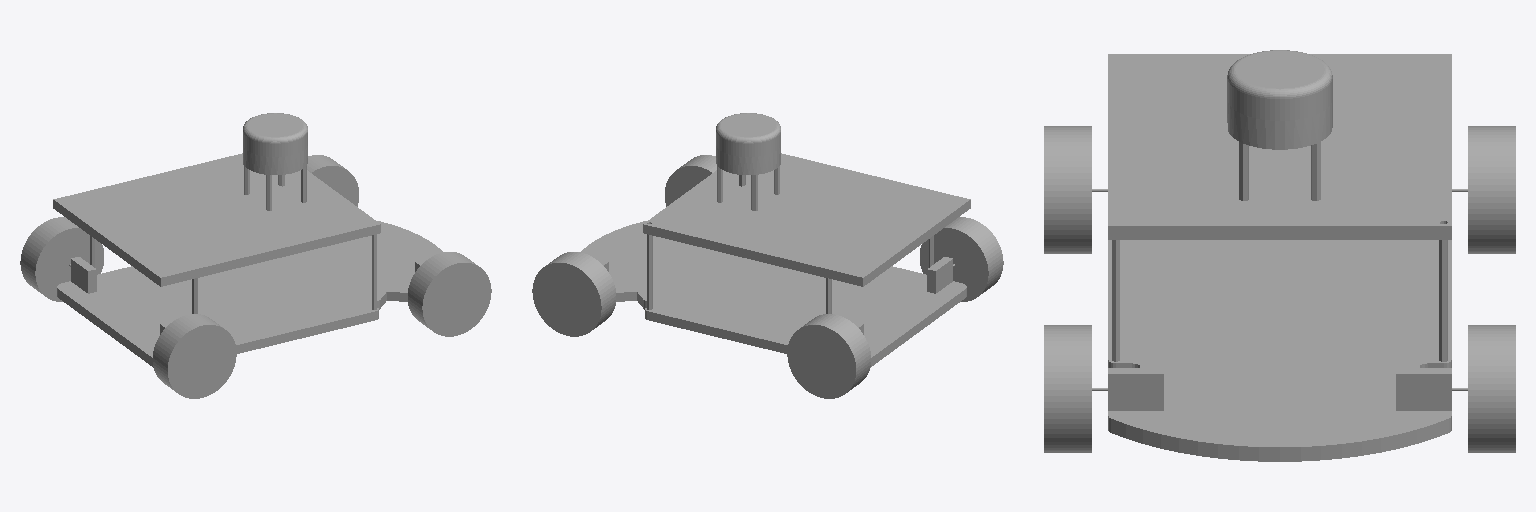
robot.urdf — 4weel_version2:
<?xml version="1.0" ?>
<!-- =================================================================================== -->
<!-- |    This document was autogenerated by xacro from urdf/4weel_version2.xacro      | -->
<!-- |    EDITING THIS FILE BY HAND IS NOT RECOMMENDED                                 | -->
<!-- =================================================================================== -->
<robot xmlns:xacro="http://www.ros.org/wiki/xacro" name="4weel_version2">
  <material name="silver">
    <color rgba="0.700 0.700 0.700 1.000"/>
  </material>
  <transmission name="Revolute 1_tran">
    <type>transmission_interface/SimpleTransmission</type>
    <joint name="Revolute 1">
      <hardwareInterface>hardware_interface/EffortJointInterface</hardwareInterface>
    </joint>
    <actuator name="Revolute 1_actr">
      <hardwareInterface>hardware_interface/EffortJointInterface</hardwareInterface>
      <mechanicalReduction>1</mechanicalReduction>
    </actuator>
  </transmission>
  <transmission name="Revolute 2_tran">
    <type>transmission_interface/SimpleTransmission</type>
    <joint name="Revolute 2">
      <hardwareInterface>hardware_interface/EffortJointInterface</hardwareInterface>
    </joint>
    <actuator name="Revolute 2_actr">
      <hardwareInterface>hardware_interface/EffortJointInterface</hardwareInterface>
      <mechanicalReduction>1</mechanicalReduction>
    </actuator>
  </transmission>
  <transmission name="Revolute 6_tran">
    <type>transmission_interface/SimpleTransmission</type>
    <joint name="Revolute 6">
      <hardwareInterface>hardware_interface/EffortJointInterface</hardwareInterface>
    </joint>
    <actuator name="Revolute 6_actr">
      <hardwareInterface>hardware_interface/EffortJointInterface</hardwareInterface>
      <mechanicalReduction>1</mechanicalReduction>
    </actuator>
  </transmission>
  <transmission name="Revolute 7_tran">
    <type>transmission_interface/SimpleTransmission</type>
    <joint name="Revolute 7">
      <hardwareInterface>hardware_interface/EffortJointInterface</hardwareInterface>
    </joint>
    <actuator name="Revolute 7_actr">
      <hardwareInterface>hardware_interface/EffortJointInterface</hardwareInterface>
      <mechanicalReduction>1</mechanicalReduction>
    </actuator>
  </transmission>
  <gazebo>
    <plugin name="control" filename="libgazebo_ros_control.so"/>
  </gazebo>
  <gazebo reference="base_link">
    <material>Gazebo/Silver</material>
    <mu1>0.2</mu1>
    <mu2>0.2</mu2>
    <selfCollide>true</selfCollide>
    <gravity>true</gravity>
  </gazebo>
  <gazebo reference="back_left_1">
    <material>Gazebo/Silver</material>
    <mu1>0.2</mu1>
    <mu2>0.2</mu2>
    <selfCollide>true</selfCollide>
  </gazebo>
  <gazebo reference="back_right_1">
    <material>Gazebo/Silver</material>
    <mu1>0.2</mu1>
    <mu2>0.2</mu2>
    <selfCollide>true</selfCollide>
  </gazebo>
  <gazebo reference="lidar_v1_1">
    <material>Gazebo/Silver</material>
    <mu1>0.2</mu1>
    <mu2>0.2</mu2>
    <selfCollide>true</selfCollide>
  </gazebo>
  <gazebo reference="front_left_1">
    <material>Gazebo/Silver</material>
    <mu1>0.2</mu1>
    <mu2>0.2</mu2>
    <selfCollide>true</selfCollide>
  </gazebo>
  <gazebo reference="front_right_1">
    <material>Gazebo/Silver</material>
    <mu1>0.2</mu1>
    <mu2>0.2</mu2>
    <selfCollide>true</selfCollide>
  </gazebo>
  <link name="base_link">
    <inertial>
      <origin xyz="-0.0026827952129199395 -9.24237718342667e-06 0.050011490590469505" rpy="0 0 0"/>
      <mass value="11.135828149573104"/>
      <inertia ixx="0.069638" iyy="0.133325" izz="0.14446" ixy="1.3e-05" iyz="4e-06" ixz="0.010205"/>
    </inertial>
    <visual>
      <origin xyz="0 0 0" rpy="0 0 0"/>
      <geometry>
        <mesh filename="package://4weel_version2_description/meshes/base_link.stl" scale="0.001 0.001 0.001"/>
      </geometry>
      <material name="silver"/>
    </visual>
    <collision>
      <origin xyz="0 0 0" rpy="0 0 0"/>
      <geometry>
        <mesh filename="package://4weel_version2_description/meshes/base_link.stl" scale="0.001 0.001 0.001"/>
      </geometry>
    </collision>
  </link>
  <link name="back_left_1">
    <inertial>
      <origin xyz="-0.24000000201165672 0.25 -6.938893903907228e-18" rpy="0 0 0"/>
      <mass value="1.1837521118726324"/>
      <inertia ixx="0.000562" iyy="0.000947" izz="0.000562" ixy="0.0" iyz="0.0" ixz="-0.0"/>
    </inertial>
    <visual>
      <origin xyz="-0.1025 0.1175 -0.0225" rpy="0 0 0"/>
      <geometry>
        <mesh filename="package://4weel_version2_description/meshes/back_left_1.stl" scale="0.001 0.001 0.001"/>
      </geometry>
      <material name="silver"/>
    </visual>
    <collision>
      <origin xyz="-0.1025 0.1175 -0.0225" rpy="0 0 0"/>
      <geometry>
        <mesh filename="package://4weel_version2_description/meshes/back_left_1.stl" scale="0.001 0.001 0.001"/>
      </geometry>
    </collision>
  </link>
  <link name="back_right_1">
    <inertial>
      <origin xyz="-0.24000000201165672 -0.24999999999999994 1.0408340855860843e-17" rpy="0 0 0"/>
      <mass value="1.1837521118726324"/>
      <inertia ixx="0.000562" iyy="0.000947" izz="0.000562" ixy="0.0" iyz="0.0" ixz="0.0"/>
    </inertial>
    <visual>
      <origin xyz="-0.1025 -0.1175 -0.0225" rpy="0 0 0"/>
      <geometry>
        <mesh filename="package://4weel_version2_description/meshes/back_right_1.stl" scale="0.001 0.001 0.001"/>
      </geometry>
      <material name="silver"/>
    </visual>
    <collision>
      <origin xyz="-0.1025 -0.1175 -0.0225" rpy="0 0 0"/>
      <geometry>
        <mesh filename="package://4weel_version2_description/meshes/back_right_1.stl" scale="0.001 0.001 0.001"/>
      </geometry>
    </collision>
  </link>
  <link name="lidar_v1_1">
    <inertial>
      <origin xyz="0.09999999899417161 -4.220056531838944e-18 0.009858499938735416" rpy="0 0 0"/>
      <mass value="0.5286905929941375"/>
      <inertia ixx="0.000159" iyy="0.000159" izz="0.000284" ixy="-0.0" iyz="0.0" ixz="-0.0"/>
    </inertial>
    <visual>
      <origin xyz="0.0675 -0.0 -0.165" rpy="0 0 0"/>
      <geometry>
        <mesh filename="package://4weel_version2_description/meshes/lidar_v1_1.stl" scale="0.001 0.001 0.001"/>
      </geometry>
      <material name="silver"/>
    </visual>
    <collision>
      <origin xyz="0.0675 -0.0 -0.165" rpy="0 0 0"/>
      <geometry>
        <mesh filename="package://4weel_version2_description/meshes/lidar_v1_1.stl" scale="0.001 0.001 0.001"/>
      </geometry>
    </collision>
  </link>
  <link name="front_left_1">
    <inertial>
      <origin xyz="0.34999999798834336 0.25 -3.469446951953614e-18" rpy="0 0 0"/>
      <mass value="1.1837521118726337"/>
      <inertia ixx="0.000562" iyy="0.000947" izz="0.000562" ixy="0.0" iyz="-0.0" ixz="0.0"/>
    </inertial>
    <visual>
      <origin xyz="0.1925 0.1175 -0.0225" rpy="0 0 0"/>
      <geometry>
        <mesh filename="package://4weel_version2_description/meshes/front_left_1.stl" scale="0.001 0.001 0.001"/>
      </geometry>
      <material name="silver"/>
    </visual>
    <collision>
      <origin xyz="0.1925 0.1175 -0.0225" rpy="0 0 0"/>
      <geometry>
        <mesh filename="package://4weel_version2_description/meshes/front_left_1.stl" scale="0.001 0.001 0.001"/>
      </geometry>
    </collision>
  </link>
  <link name="front_right_1">
    <inertial>
      <origin xyz="0.34999999798834336 -0.25 -3.469446951953614e-18" rpy="0 0 0"/>
      <mass value="1.1837521118726337"/>
      <inertia ixx="0.000562" iyy="0.000947" izz="0.000562" ixy="-0.0" iyz="0.0" ixz="-0.0"/>
    </inertial>
    <visual>
      <origin xyz="0.1925 -0.1175 -0.0225" rpy="0 0 0"/>
      <geometry>
        <mesh filename="package://4weel_version2_description/meshes/front_right_1.stl" scale="0.001 0.001 0.001"/>
      </geometry>
      <material name="silver"/>
    </visual>
    <collision>
      <origin xyz="0.1925 -0.1175 -0.0225" rpy="0 0 0"/>
      <geometry>
        <mesh filename="package://4weel_version2_description/meshes/front_right_1.stl" scale="0.001 0.001 0.001"/>
      </geometry>
    </collision>
  </link>
  <joint name="Revolute 1" type="continuous">
    <origin xyz="0.1025 -0.1175 0.0225" rpy="0 0 0"/>
    <parent link="base_link"/>
    <child link="back_left_1"/>
    <axis xyz="0.0 -1.0 -0.0"/>
  </joint>
  <joint name="Revolute 2" type="continuous">
    <origin xyz="0.1025 0.1175 0.0225" rpy="0 0 0"/>
    <parent link="base_link"/>
    <child link="back_right_1"/>
    <axis xyz="0.0 1.0 -0.0"/>
  </joint>
  <joint name="Rigid 3" type="fixed">
    <origin xyz="-0.0675 0.0 0.165" rpy="0 0 0"/>
    <parent link="base_link"/>
    <child link="lidar_v1_1"/>
  </joint>
  <joint name="Revolute 6" type="continuous">
    <origin xyz="-0.1925 -0.1175 0.0225" rpy="0 0 0"/>
    <parent link="base_link"/>
    <child link="front_left_1"/>
    <axis xyz="0.0 -1.0 -0.0"/>
  </joint>
  <joint name="Revolute 7" type="continuous">
    <origin xyz="-0.1925 0.1175 0.0225" rpy="0 0 0"/>
    <parent link="base_link"/>
    <child link="front_right_1"/>
    <axis xyz="0.0 1.0 -0.0"/>
  </joint>
</robot>

--- Facts derived from the render (not from the file) ---
Views: 3 orthographic renders of the robot side by side, from view 1: azimuth 30°, elevation 25°; view 2: azimuth 150°, elevation 25°; view 3: azimuth 270°, elevation 25°.
Robot: 4weel_version2 — 6 links, 5 joints (4 continuous, 1 fixed); root link base_link; default pose: every joint at zero.
Visible links, largest first — view 1: base_link, back_right_1, front_right_1, back_left_1, lidar_v1_1, front_left_1; view 2: base_link, back_left_1, front_left_1, back_right_1, lidar_v1_1, front_right_1; view 3: base_link, lidar_v1_1, back_left_1, back_right_1, front_left_1, front_right_1.
Link boxes in pixels (x1,y1,x2,y2): base_link: [53, 146, 442, 367]; back_right_1: [153, 314, 236, 398]; front_right_1: [408, 252, 491, 336]; back_left_1: [20, 217, 103, 301]; lidar_v1_1: [243, 113, 307, 156]; front_left_1: [307, 155, 358, 206]; base_link: [581, 146, 970, 367]; back_left_1: [787, 314, 870, 398]; front_left_1: [532, 252, 615, 336]; back_right_1: [920, 217, 1003, 301]; lidar_v1_1: [716, 113, 780, 156]; front_right_1: [665, 155, 716, 206]; base_link: [1092, 54, 1467, 461]; lidar_v1_1: [1227, 50, 1332, 120]; back_left_1: [1468, 126, 1515, 253]; back_right_1: [1044, 126, 1091, 253]; front_left_1: [1468, 325, 1515, 452]; front_right_1: [1044, 325, 1091, 452].
Bounding box of the posed robot: 0.3945 × 0.295 × 0.2025 m (x, y, z).
Meshes: 6 distinct files referenced, 6 mesh visuals loaded (6 binary STL).